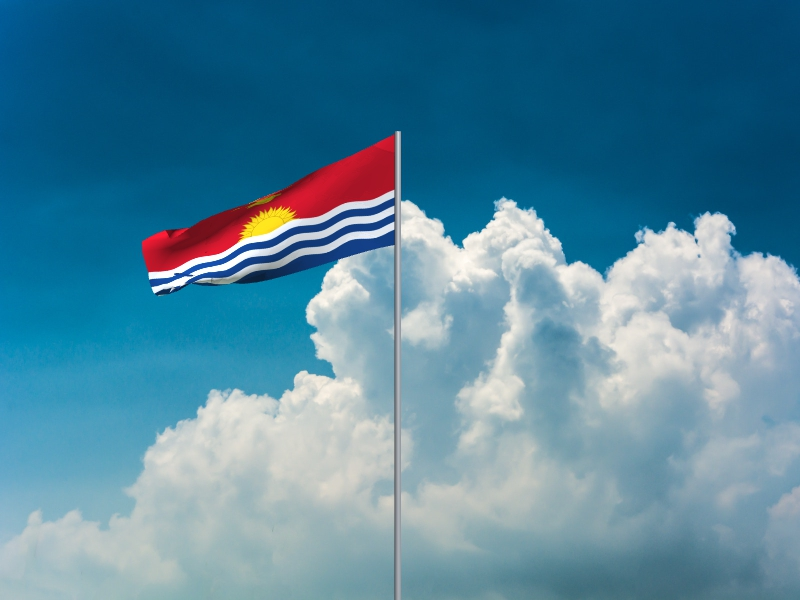ki: (142, 135, 395, 298)
